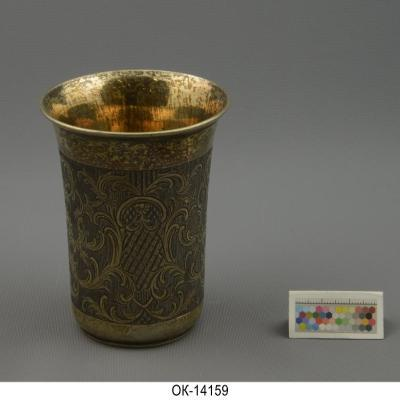dpi: (39, 70, 230, 350)
